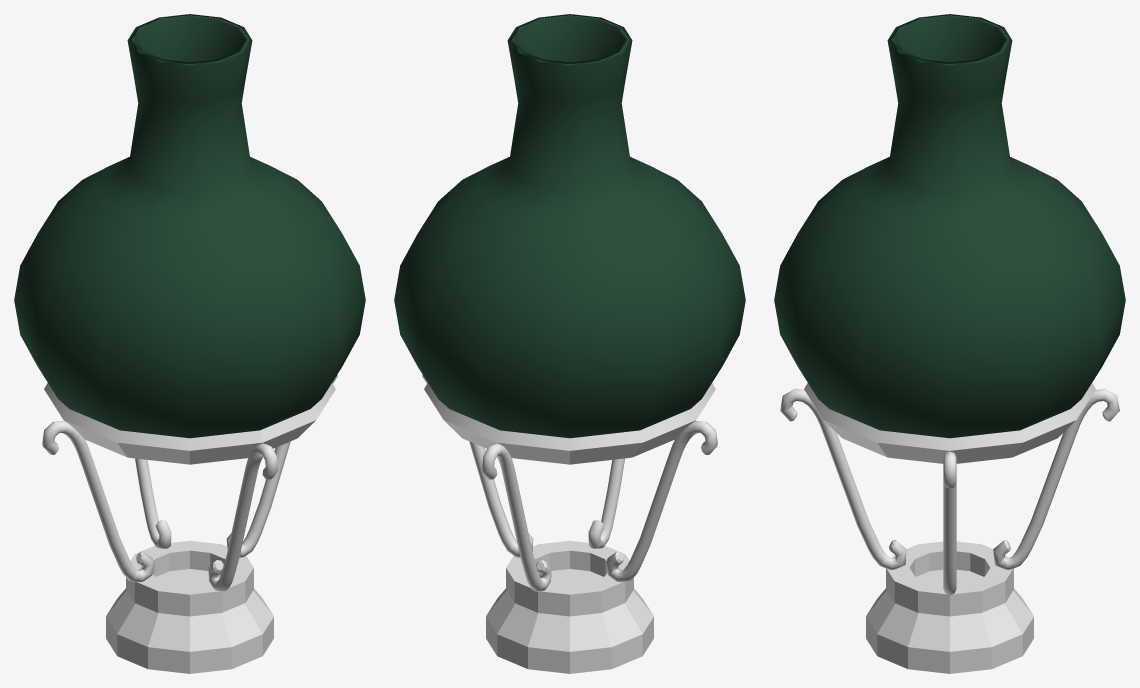
Rendered from flask03.fbx.
3 views of the same model, side by side, from view 1: azimuth 30°, elevation 25°; view 2: azimuth 150°, elevation 25°; view 3: azimuth 270°, elevation 25° (orthographic).
Parts seen in each view (by area): view 1: polySurface66, flask_stand01; view 2: polySurface66, flask_stand01; view 3: polySurface66, flask_stand01.
Boxes of the visible parts, x1,y1,x2,y2 form: polySurface66: [14, 14, 365, 438]; flask_stand01: [42, 374, 337, 673]; polySurface66: [394, 14, 745, 438]; flask_stand01: [422, 374, 717, 673]; polySurface66: [774, 14, 1125, 438]; flask_stand01: [780, 383, 1119, 673].
Bounding box in the file's own units: 1.07 × 1.07 × 2.01.
